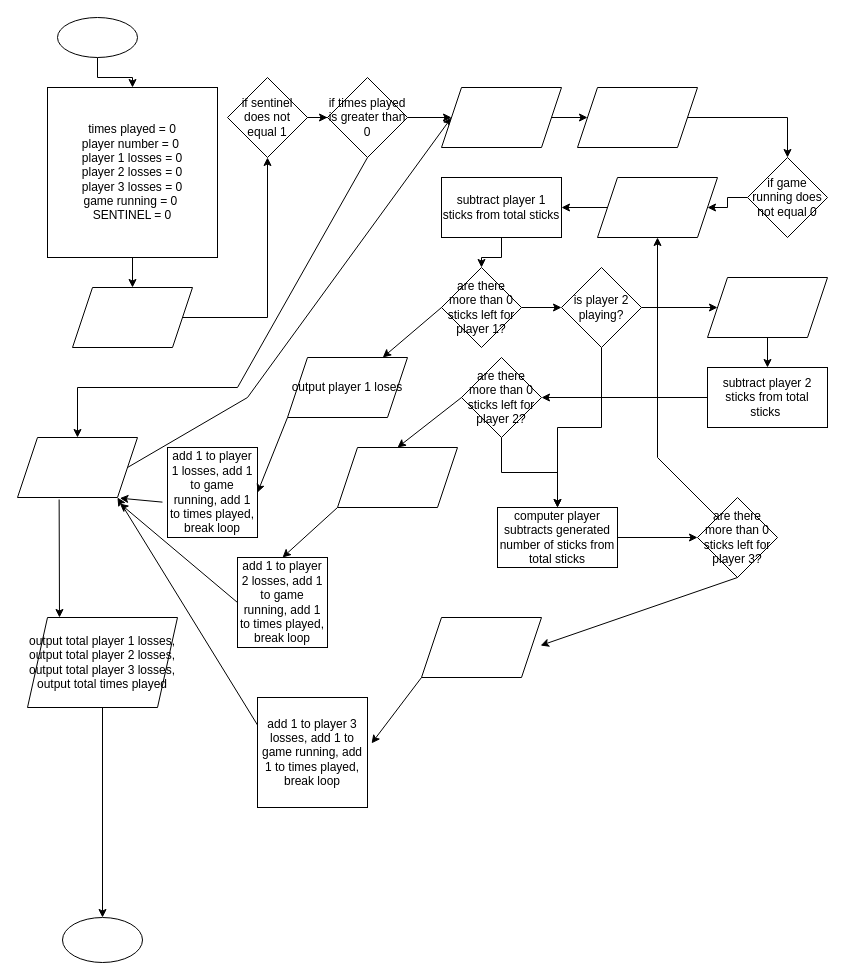
The diagram is 845 pixels wide and 980 high, and some of its shapes have lost their labels. Here are the shapes that lost their labels. From the top down, the centre of each, then its label:
pixel 501 117: ask player for number of players
pixel 637 117: ask player for number of sticks
pixel 657 207: ask player 1 how many sticks they wish to remove
pixel 132 317: output program explanation
pixel 767 307: ask player 2 how many sticks they wish to remove
pixel 77 467: ask user if they want to play again
pixel 397 477: output player 2 loses
pixel 481 647: output player 3 loses
